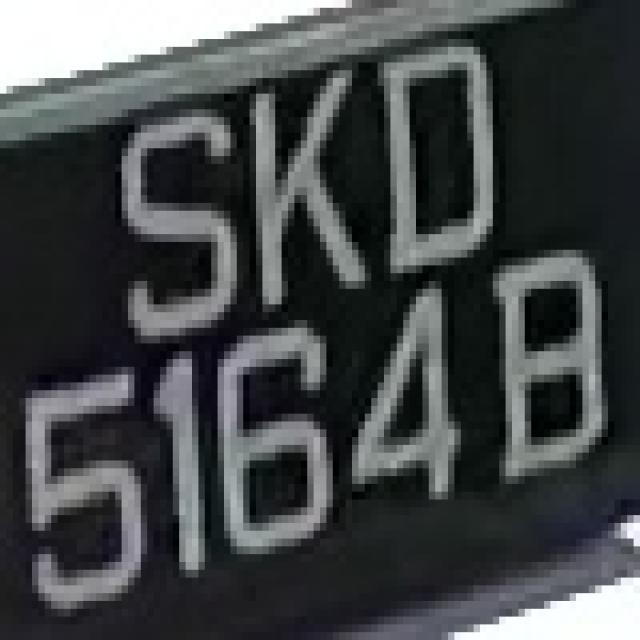1: (141, 320, 230, 578)
4: (333, 281, 480, 539)
5: (7, 343, 154, 640)
6: (198, 328, 333, 578)
B: (480, 234, 621, 500)
D: (378, 15, 499, 296)
K: (224, 31, 358, 320)
S: (96, 94, 250, 344)
